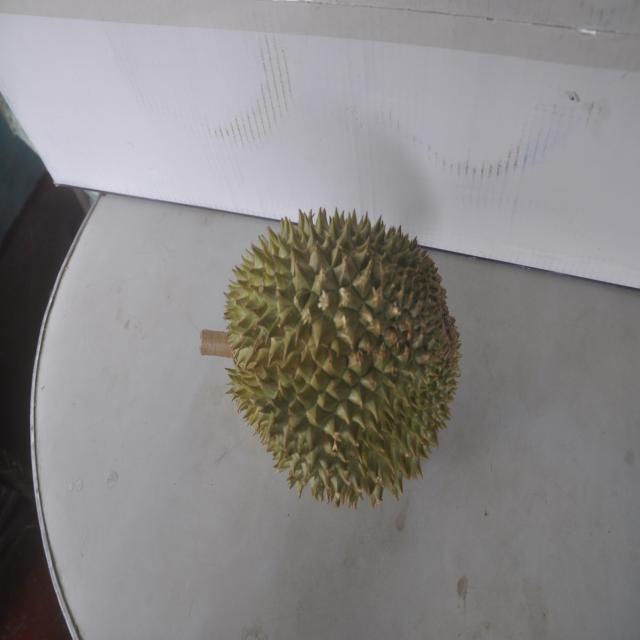mature: (218, 200, 449, 510)
